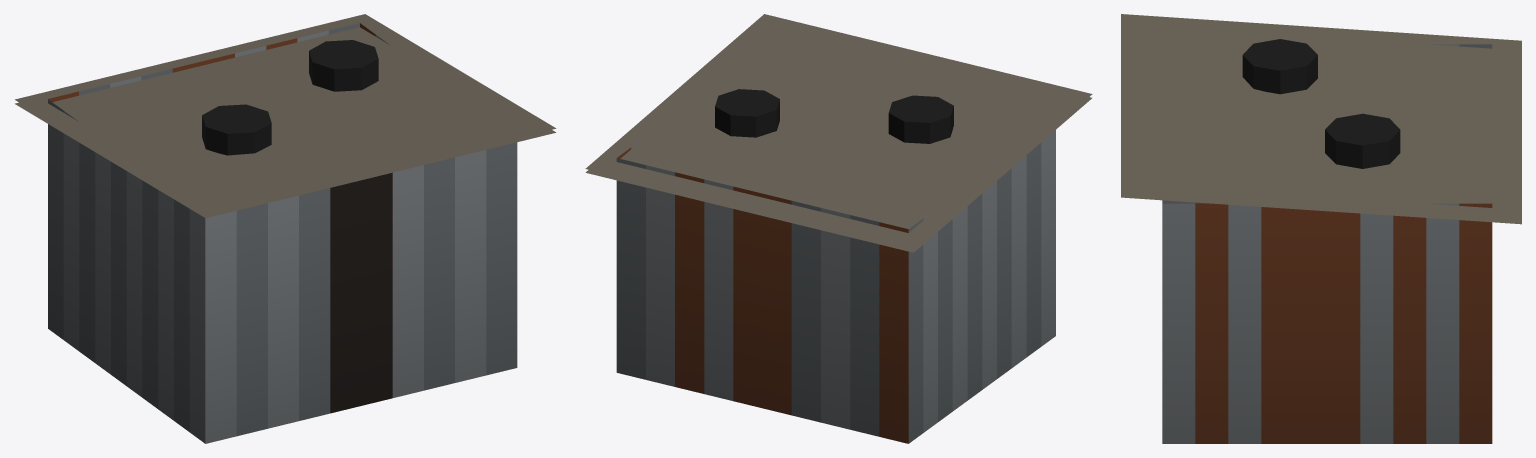
Rendered from ub_shack_zinc.glb.
3 views of the same model, side by side, from view 1: azimuth 30°, elevation 25°; view 2: azimuth 150°, elevation 25°; view 3: azimuth 270°, elevation 25° (orthographic). The views are drawn at different scales.
Parts seen in each view (by area): view 1: ub_shack_zinc; view 2: ub_shack_zinc; view 3: ub_shack_zinc.
Part boxes in pixels (<box>): ub_shack_zinc: <box>15,14,556,443</box>; ub_shack_zinc: <box>585,14,1092,443</box>; ub_shack_zinc: <box>1121,14,1521,443</box>.
Bounding box in the file's own units: 3.6 × 2.57 × 3.4.
